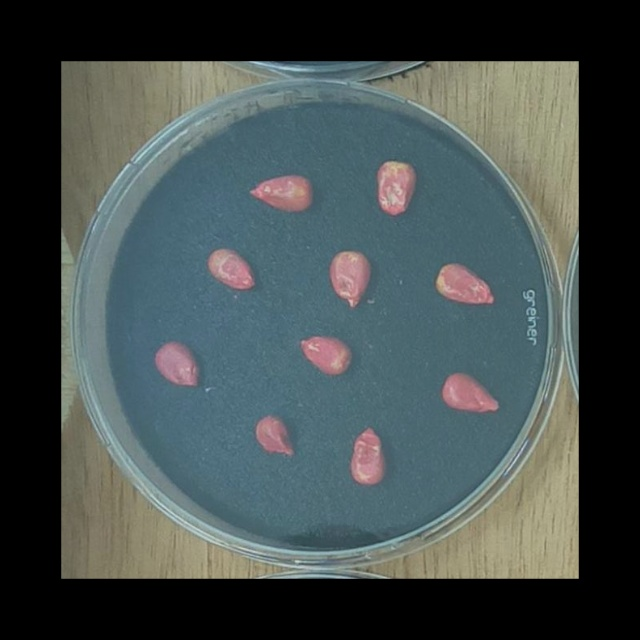Zea mays: (430, 254, 501, 311), (435, 364, 505, 419), (244, 167, 318, 219), (324, 244, 376, 314), (292, 328, 357, 383), (200, 240, 263, 296), (148, 335, 206, 394), (370, 155, 421, 218), (346, 419, 391, 488), (249, 408, 302, 462)
